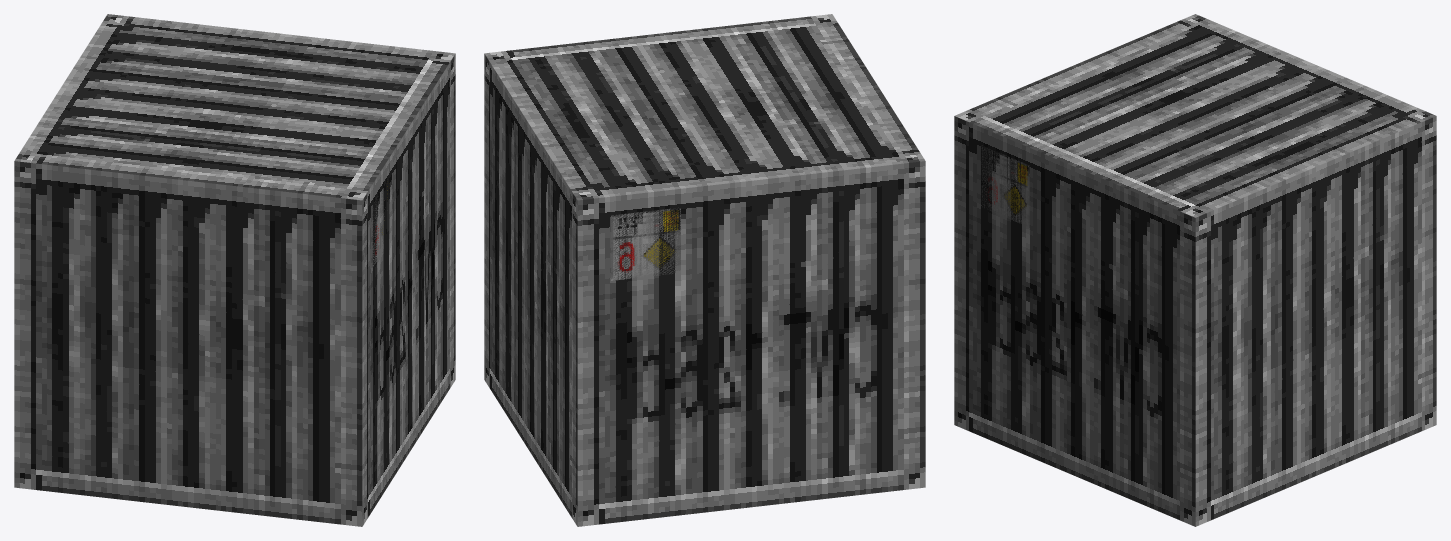
File: primary_028.glb
The picture shows the model from 3 angles, left to right: view 1: azimuth 30°, elevation 25°; view 2: azimuth 150°, elevation 25°; view 3: azimuth 270°, elevation 25°; orthographic projection. The views are drawn at different scales.
Parts seen in each view (by area): view 1: Object; view 2: Object; view 3: Object.
Part boxes in pixels (bbox=[...]): Object: bbox=[14, 14, 455, 526]; Object: bbox=[484, 14, 925, 526]; Object: bbox=[954, 14, 1436, 526].
Bounding box in the file's own units: 1.87 × 1.32 × 1.87.
3 materials, 3 textured.
